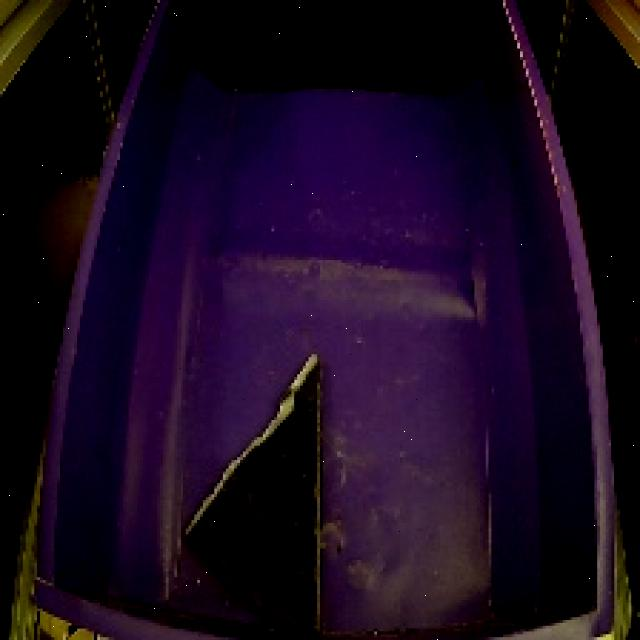china: (173, 340, 340, 640)
